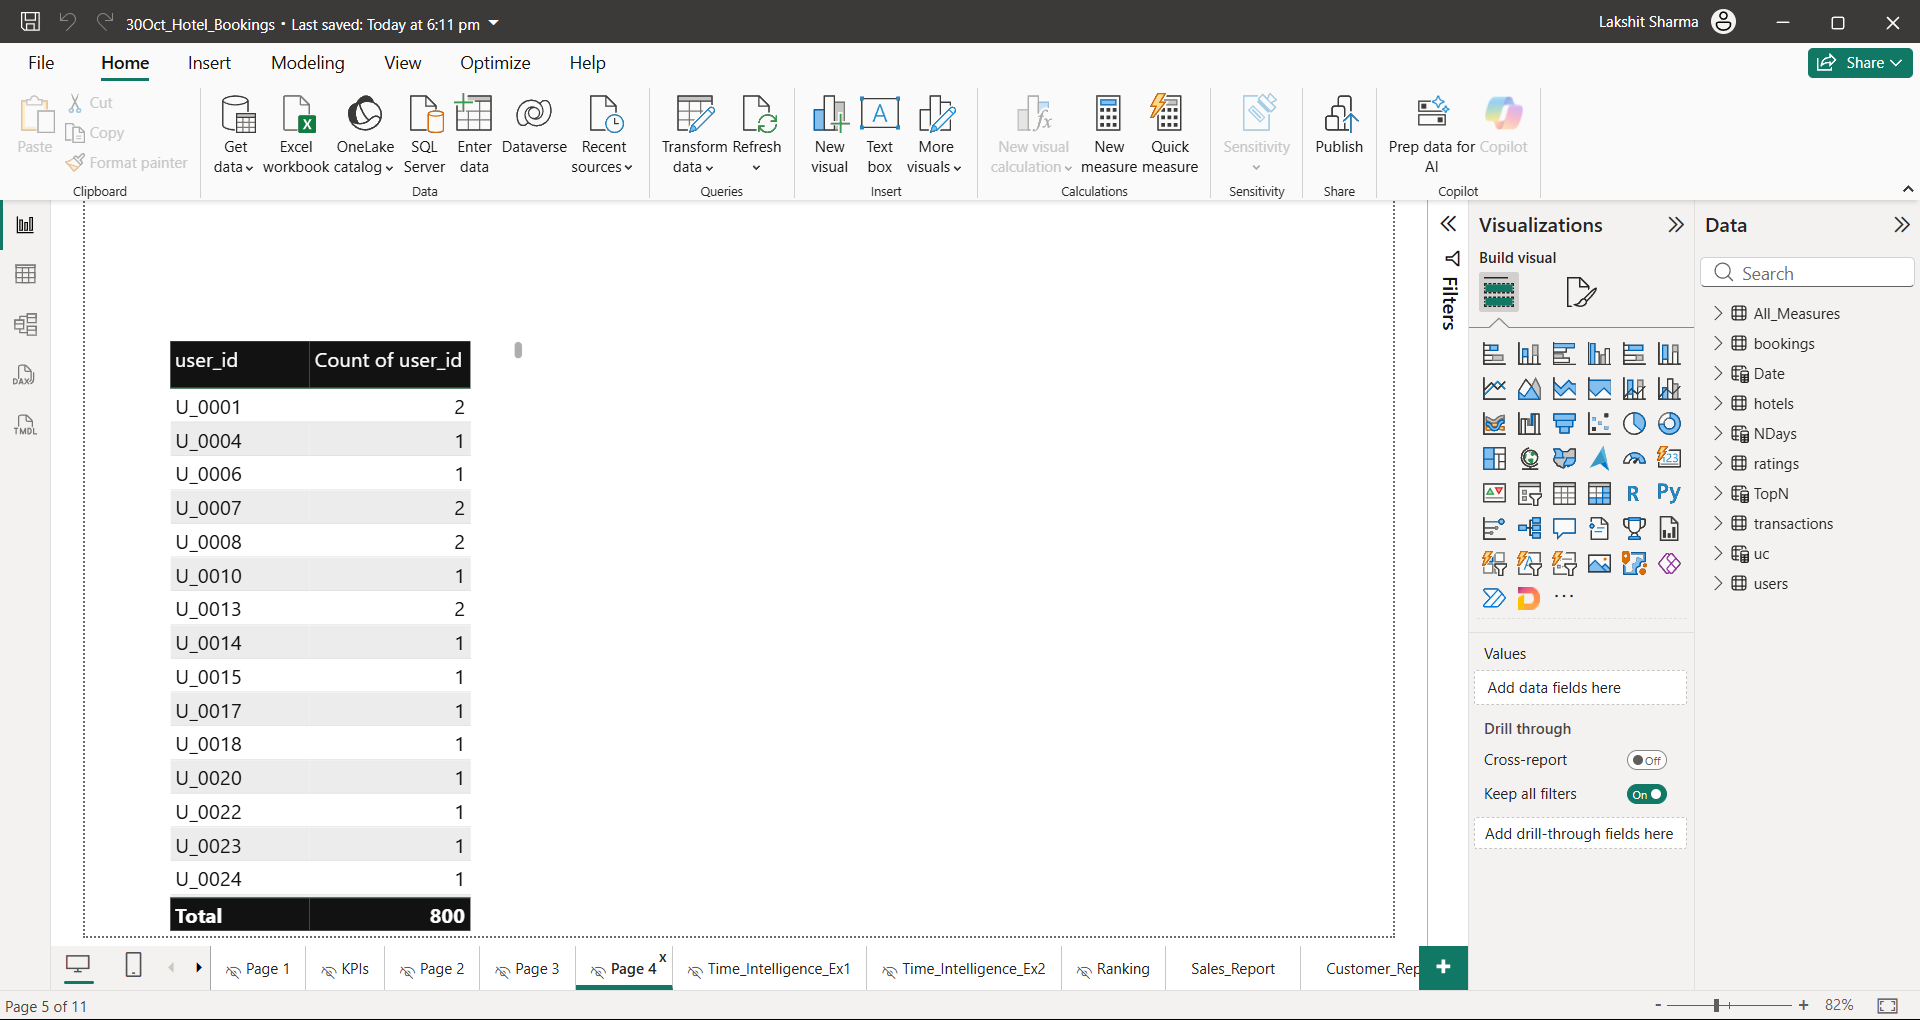

This screenshot's page, from the dashboard's own definition file:
{"tool":"powerbi","page":{"name":"Page 4","canvas":[1280,720],"ordinal":4},"visuals":[{"type":"tableEx","fields":{"Values":["bookings.user_id","CountNonNull(bookings.user_id)"]},"box":[77.3,133.7,356.1,586.6],"z":0}]}

Visuals, with their boxes on the page's 1280x720 design canvas (x1, y1, x2, y2). These are canvas units, not pixel positions in the 1920x1020 screenshot, which may show the page scaled, cropped or inside an application window:
tableEx - bookings.user_id x CountNonNull(bookings.user_id): pyautogui.locateOnScreen(77, 134, 433, 720)
